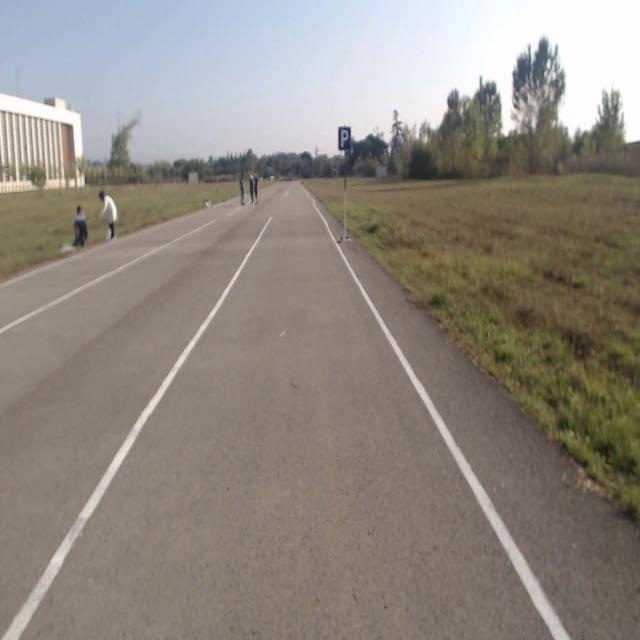park: (338, 127, 352, 150)
